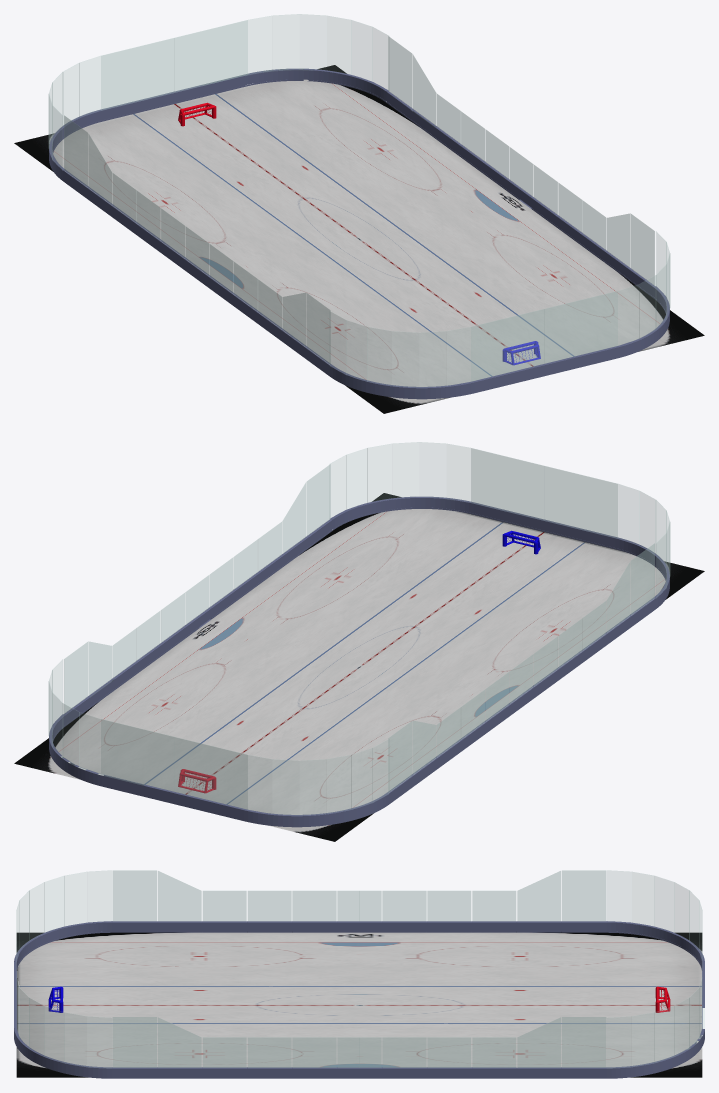
Rendered from newarena.glb.
3 views of the same model, one above another, from view 1: azimuth 30°, elevation 25°; view 2: azimuth 150°, elevation 25°; view 3: azimuth 270°, elevation 25° (orthographic). The views are drawn at different scales.
Visible parts, largest first — view 1: baseice, baseboards, baseboardlower; view 2: baseice, baseboards, baseboardlower; view 3: baseice, baseboards, baseboardlower.
Part boxes in pixels (x1,y1,x2,y2): baseice: (14, 65, 704, 413); baseboards: (48, 14, 670, 387); baseboardlower: (49, 68, 669, 399); baseice: (14, 493, 704, 841); baseboards: (48, 442, 670, 815); baseboardlower: (49, 496, 669, 827); baseice: (16, 932, 702, 1077); baseboards: (16, 870, 704, 1068); baseboardlower: (14, 921, 704, 1078).
Size of the model in its own units: 31.1 by 6.12 by 61.5.
6 materials, 1 textured.
